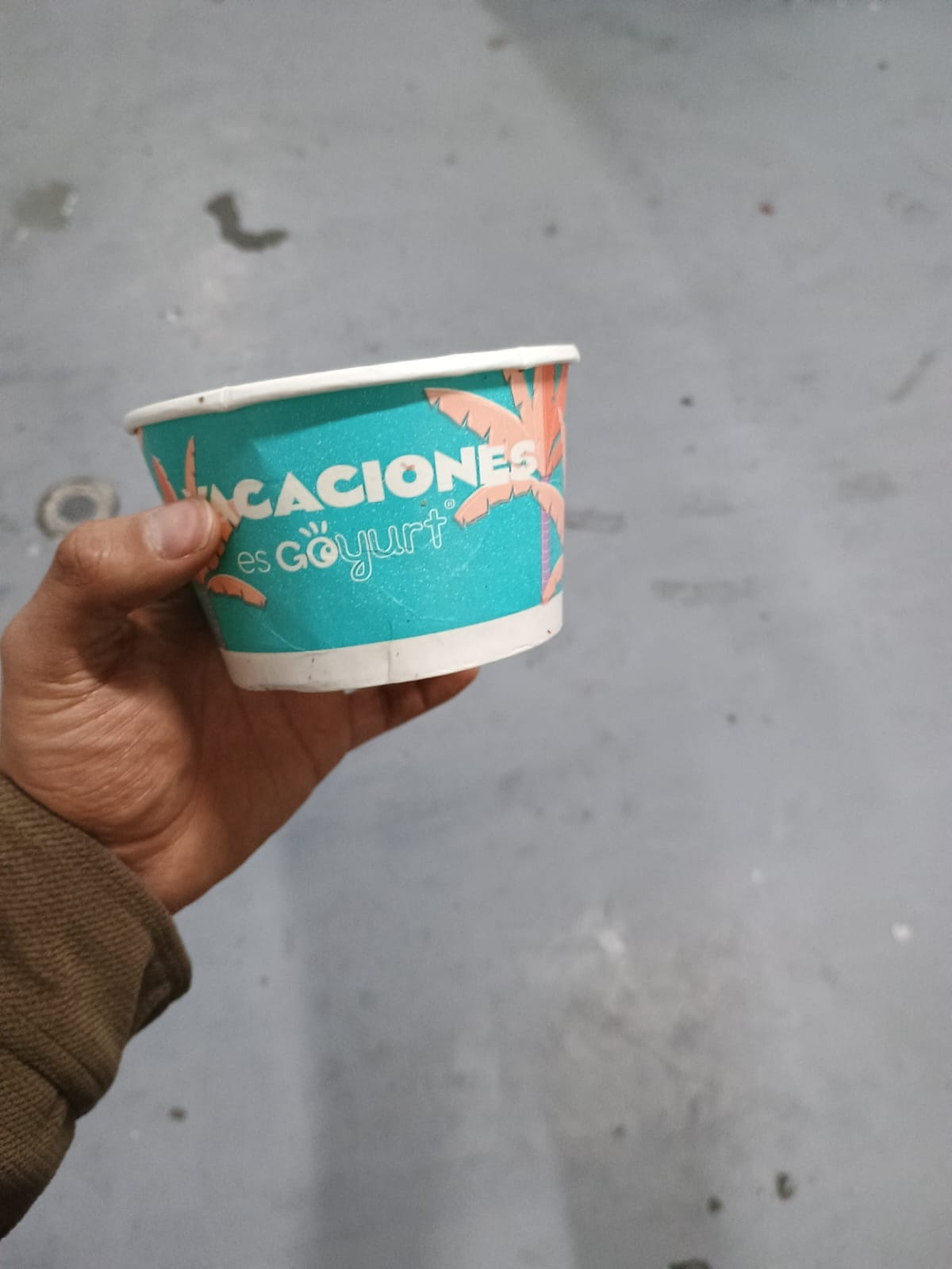Carton: (124, 342, 588, 690)
